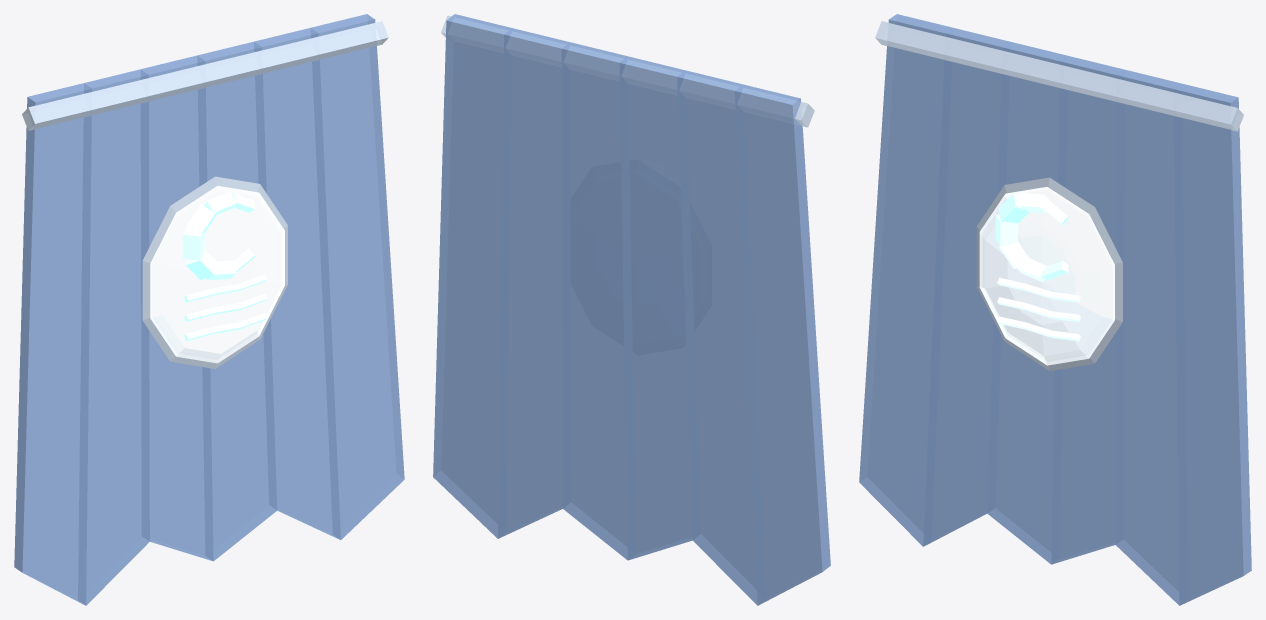
Rendered from fog_knight_tabard.glb.
3 renders of one model, left to right at view 1: azimuth 30°, elevation 25°; view 2: azimuth 150°, elevation 25°; view 3: azimuth 330°, elevation 25°, orthographic.
Parts seen in each view (by area): view 1: fog_knight_tabard; view 2: fog_knight_tabard; view 3: fog_knight_tabard.
Part boxes in pixels (bbox=[...]): fog_knight_tabard: bbox=[14, 14, 404, 605]; fog_knight_tabard: bbox=[433, 14, 830, 605]; fog_knight_tabard: bbox=[859, 14, 1251, 605].
Size of the model in its own units: 0.54 by 0.6863 by 0.086.
